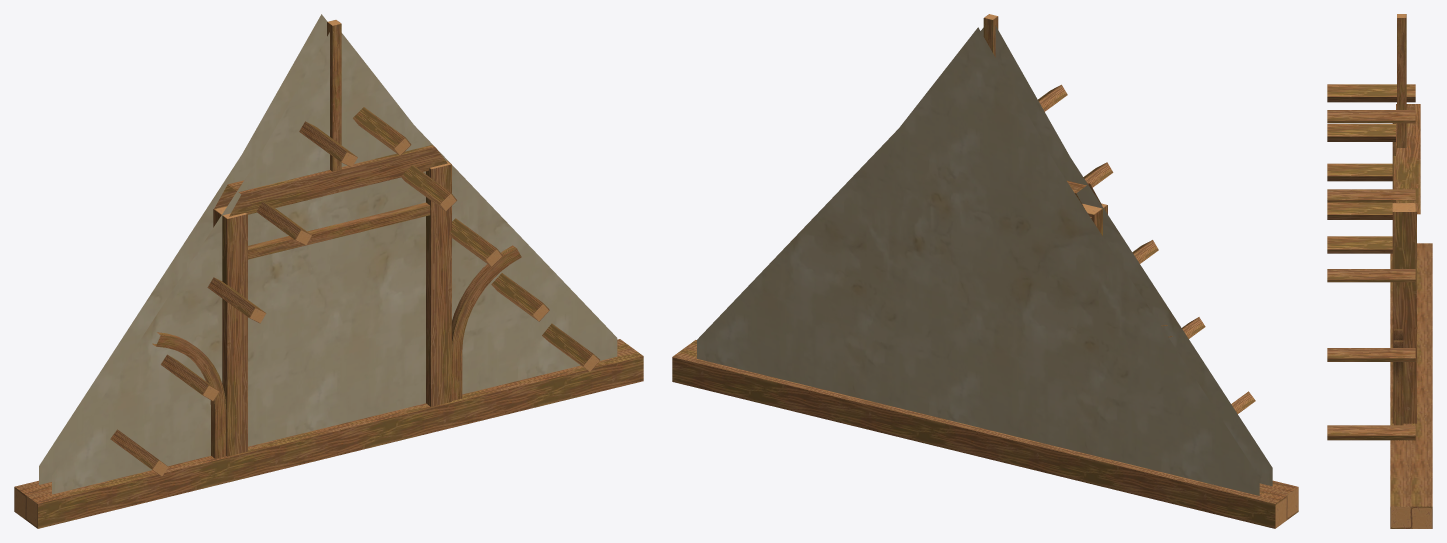
File: roof_front_brick6.glb
The picture shows the model from 3 angles, left to right: view 1: azimuth 30°, elevation 25°; view 2: azimuth 150°, elevation 25°; view 3: azimuth 270°, elevation 25°; orthographic projection. The views are drawn at different scales.
Bounding box in the file's own units: 6.69 × 4.52 × 1.13.
2 materials, 2 textured.
